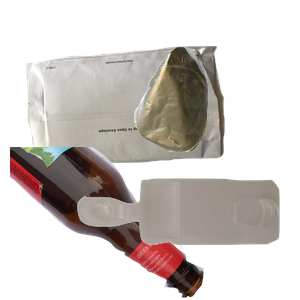glass: (10, 147, 207, 300)
paper: (24, 43, 242, 202)
plastic: (75, 176, 300, 300)
trash: (131, 44, 300, 189)
